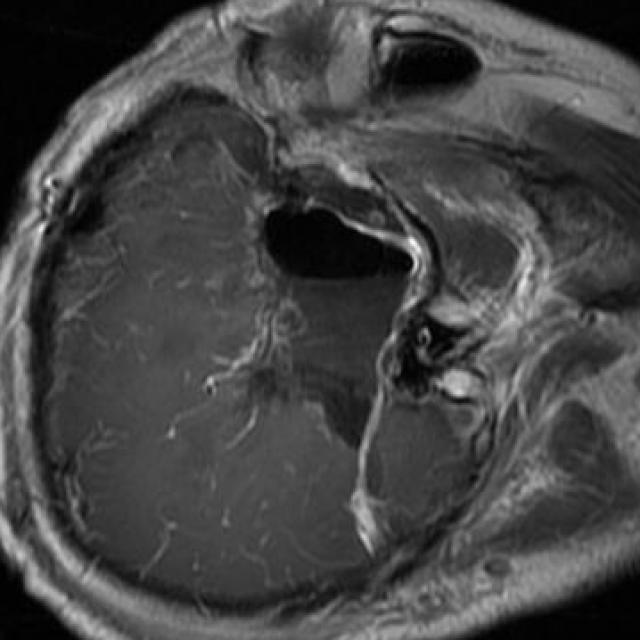glioma: (242, 205, 412, 451)
